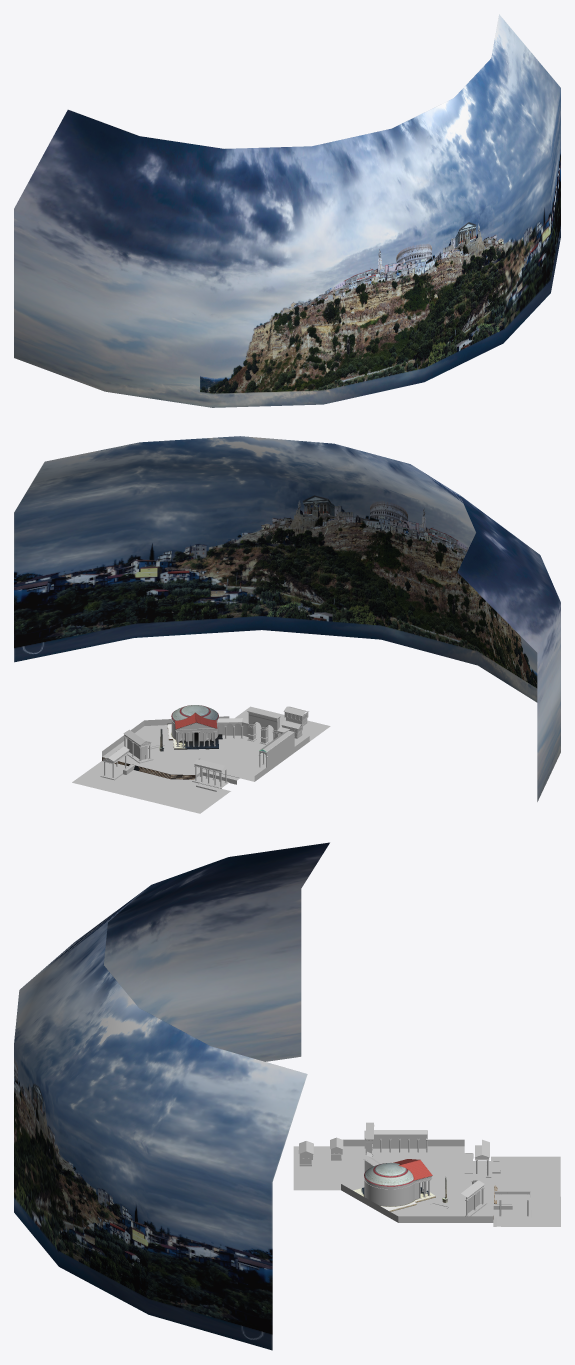
File: Rome.obj
3 views of the same model, one above another, from view 1: azimuth 30°, elevation 25°; view 2: azimuth 150°, elevation 25°; view 3: azimuth 270°, elevation 25° (orthographic). The views are drawn at different scales.
Visible parts, largest first — view 1: Cylinder002; view 2: Cylinder002, hor_floor, vertical_floor, big_build_cil, arch, right_geder, build_right, left_build2, geder_left, domiki, build_left, gorshki; view 3: Cylinder002, hor_floor, big_build_cil, right_geder, walls, build_left, left_build2, domiki.
Part boxes in pixels (x1,y1,x2,y2): Cylinder002: [14, 14, 560, 407]; Cylinder002: [14, 436, 560, 801]; hor_floor: [72, 706, 330, 813]; vertical_floor: [102, 723, 222, 779]; big_build_cil: [171, 705, 218, 729]; arch: [247, 708, 280, 744]; right_geder: [259, 727, 294, 767]; build_right: [192, 758, 229, 788]; left_build2: [123, 729, 153, 763]; geder_left: [217, 718, 248, 738]; domiki: [281, 706, 308, 738]; build_left: [100, 746, 129, 780]; gorshki: [123, 744, 240, 791]; Cylinder002: [14, 842, 329, 1350]; hor_floor: [293, 1139, 560, 1226]; big_build_cil: [364, 1159, 432, 1186]; right_geder: [364, 1130, 427, 1152]; walls: [364, 1177, 418, 1206]; build_left: [493, 1191, 531, 1217]; left_build2: [453, 1180, 487, 1216]; domiki: [298, 1137, 343, 1166].
Bounding box in the file's own units: 1375 × 548 × 1082.
